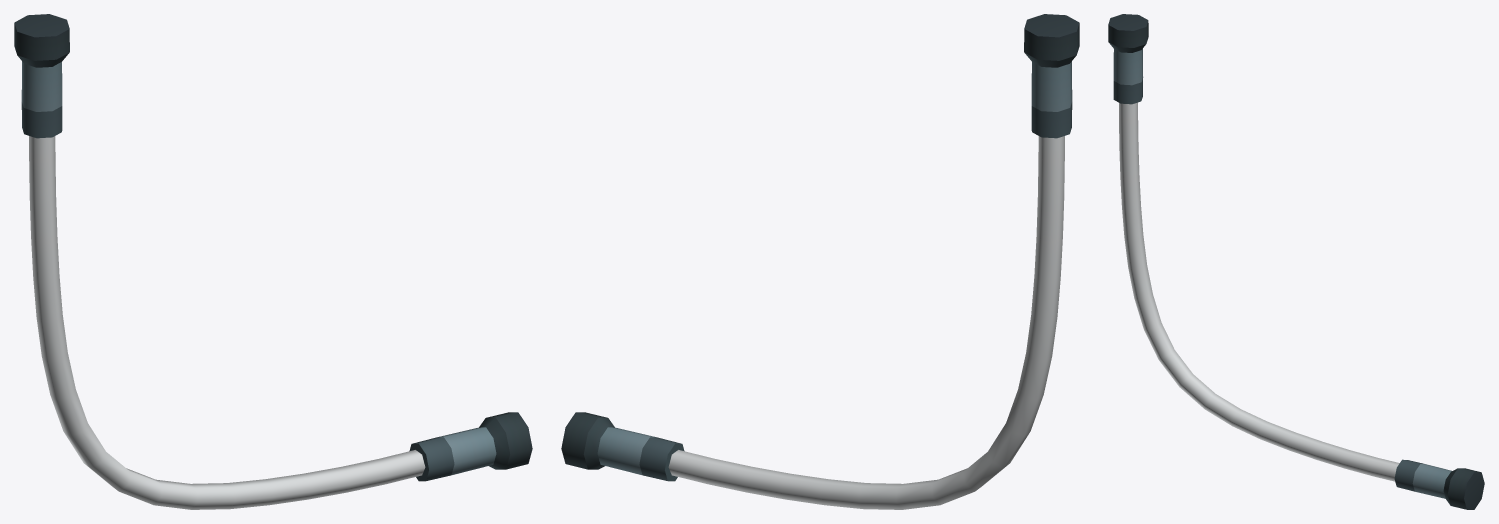
File: Cable_type_B_011.fbx
3 renders of one model, left to right at view 1: azimuth 30°, elevation 25°; view 2: azimuth 150°, elevation 25°; view 3: azimuth 330°, elevation 25°, orthographic. The views are drawn at different scales.
Parts seen in each view (by area): view 1: Cable_type_B_011; view 2: Cable_type_B_011; view 3: Cable_type_B_011.
Part boxes in pixels (bbox=[...]): Cable_type_B_011: bbox=[14, 14, 532, 509]; Cable_type_B_011: bbox=[561, 14, 1079, 509]; Cable_type_B_011: bbox=[1108, 14, 1484, 509].
Bounding box in the file's own units: 79.2 × 7.83 × 83.77.
